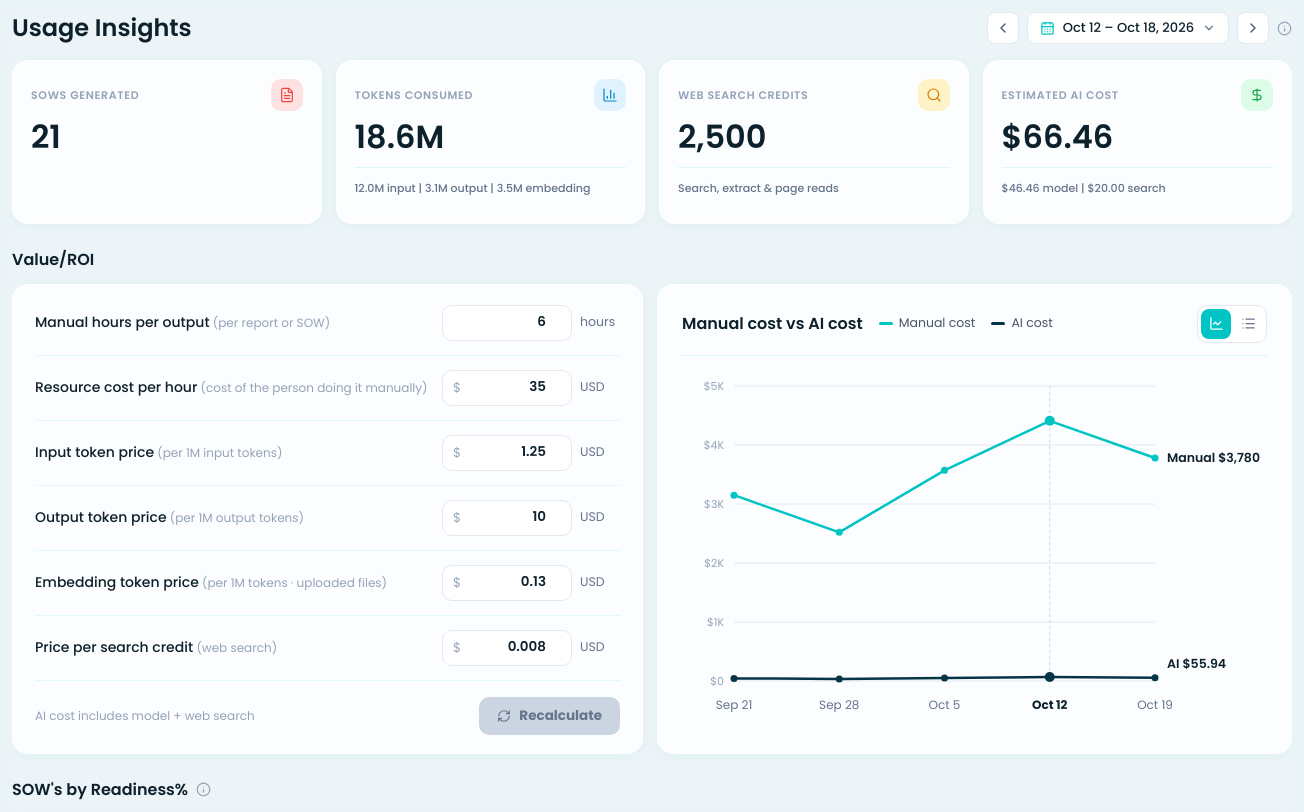
Scenario: UsageInsightsView › lets the user pick a week from the current month
This screenshot has width=1304, height=812.
Click the button "Oct 12 – Oct 18, 2026".
click(1128, 28)  # box top-left (1027, 12), bottom-right (1229, 44)
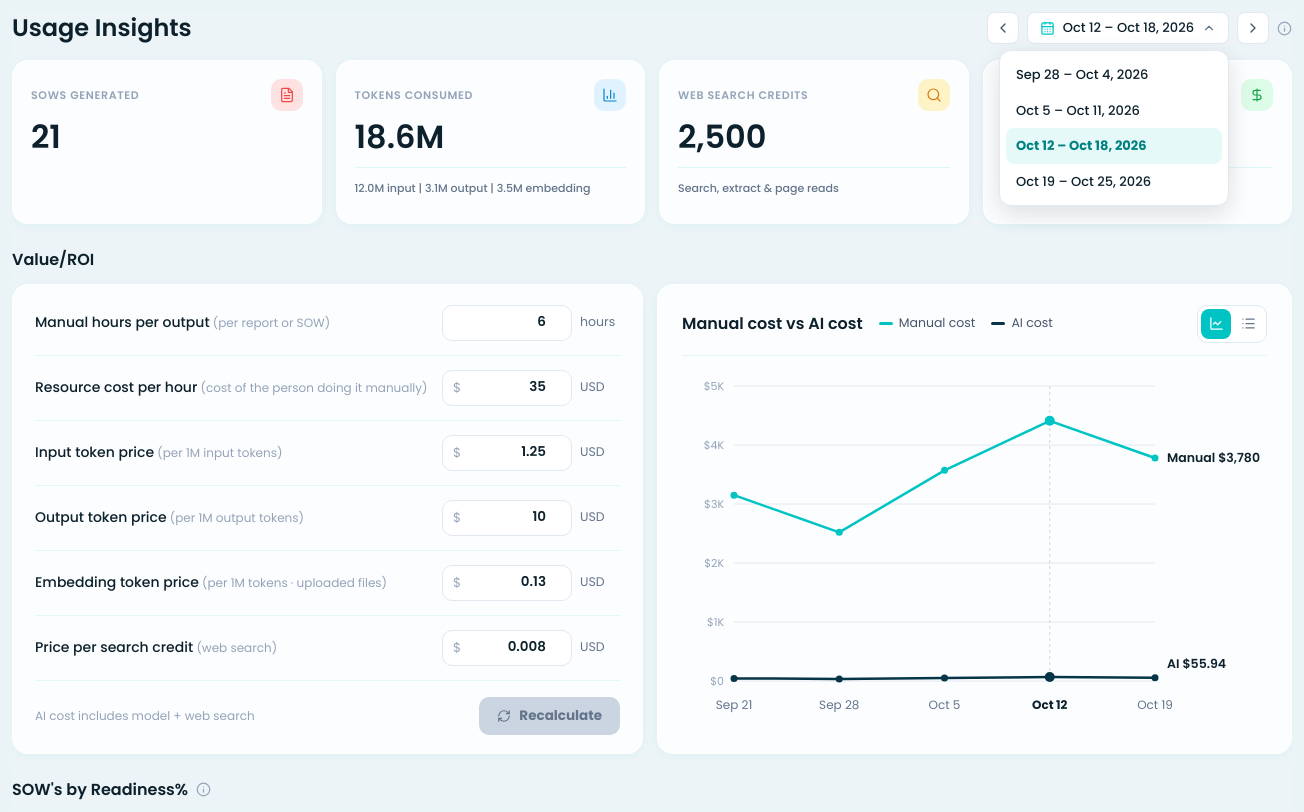
Click the button "Oct 5 – Oct 11, 2026".
click(1114, 110)  # box top-left (1006, 92), bottom-right (1222, 128)
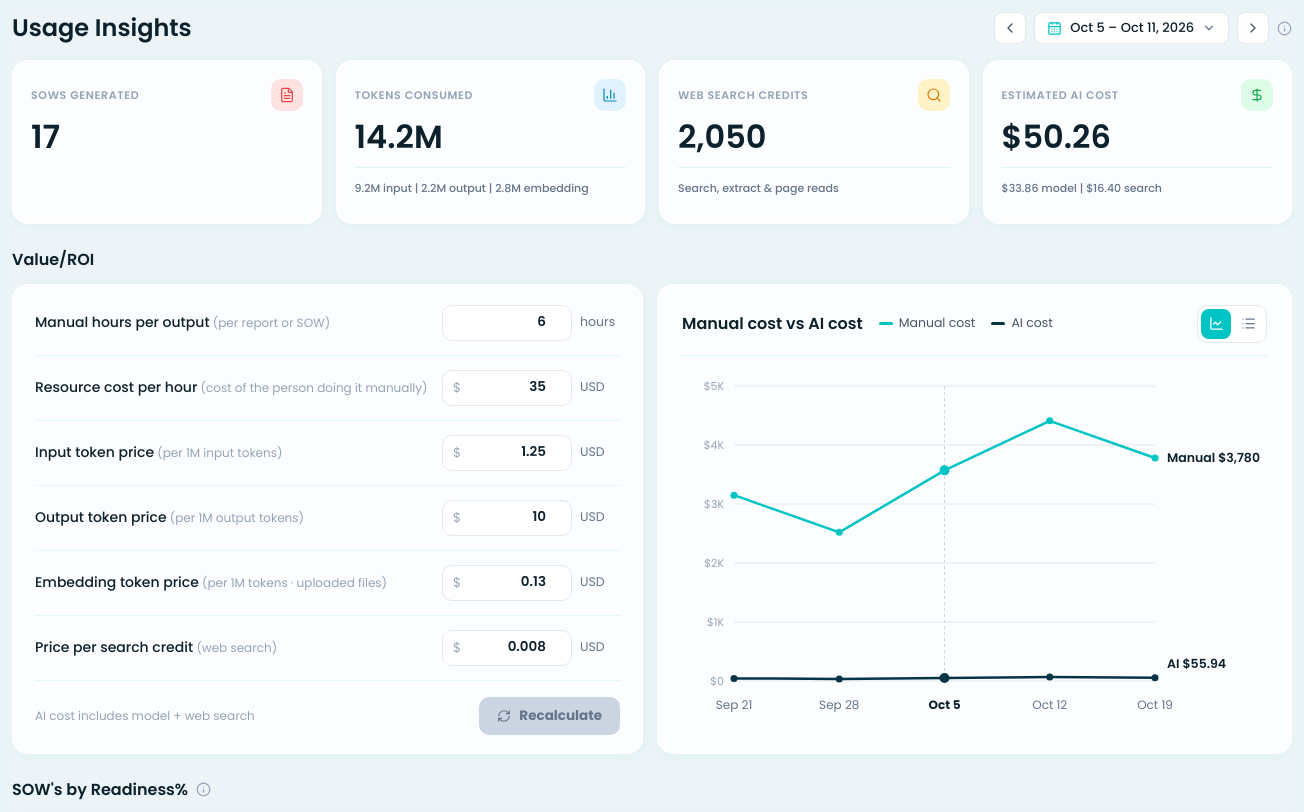
Now the button "Oct 5 – Oct 11, 2026" is shown, box top-left (1034, 12), bottom-right (1229, 44)
